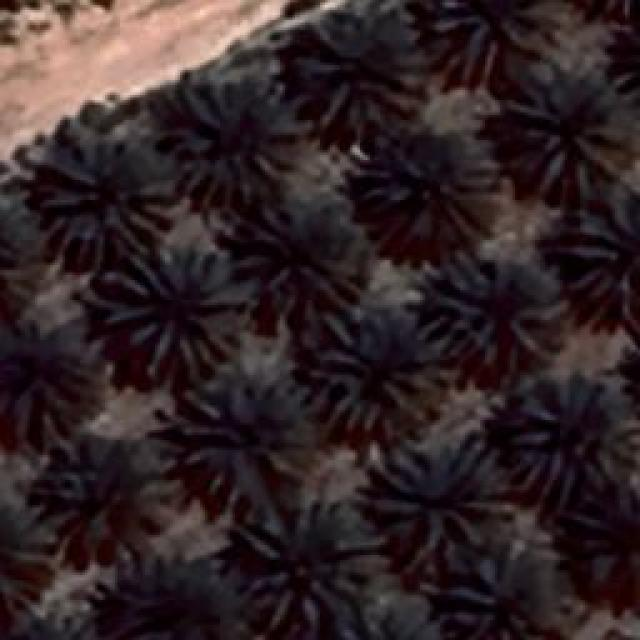PalmTree: (40, 29, 100, 625), (32, 130, 172, 260), (100, 242, 242, 370), (510, 64, 630, 198), (507, 370, 635, 492), (175, 370, 303, 492), (375, 448, 510, 560), (160, 82, 285, 202), (250, 502, 365, 630), (300, 18, 425, 132), (420, 250, 545, 362), (364, 141, 488, 249), (236, 215, 356, 325), (560, 185, 638, 333), (312, 328, 412, 430), (49, 442, 152, 540), (448, 555, 564, 640), (0, 327, 92, 422), (562, 494, 640, 606), (106, 560, 212, 638), (430, 0, 535, 70), (0, 516, 45, 624), (362, 595, 452, 640), (612, 7, 640, 118), (563, 0, 640, 19)
